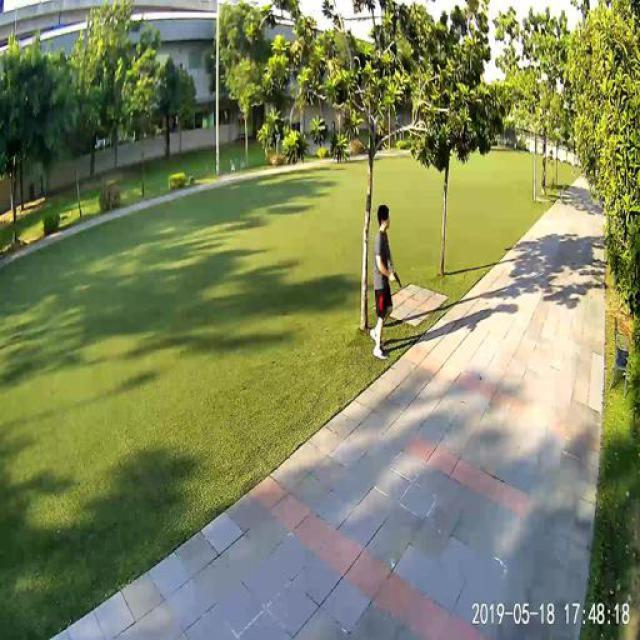weapon: (390, 270, 402, 289)
